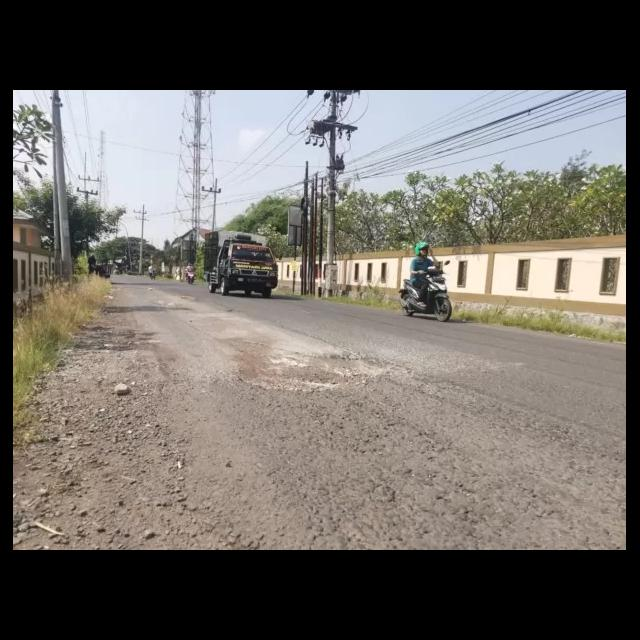lubang_kecil: (234, 332, 414, 404)
